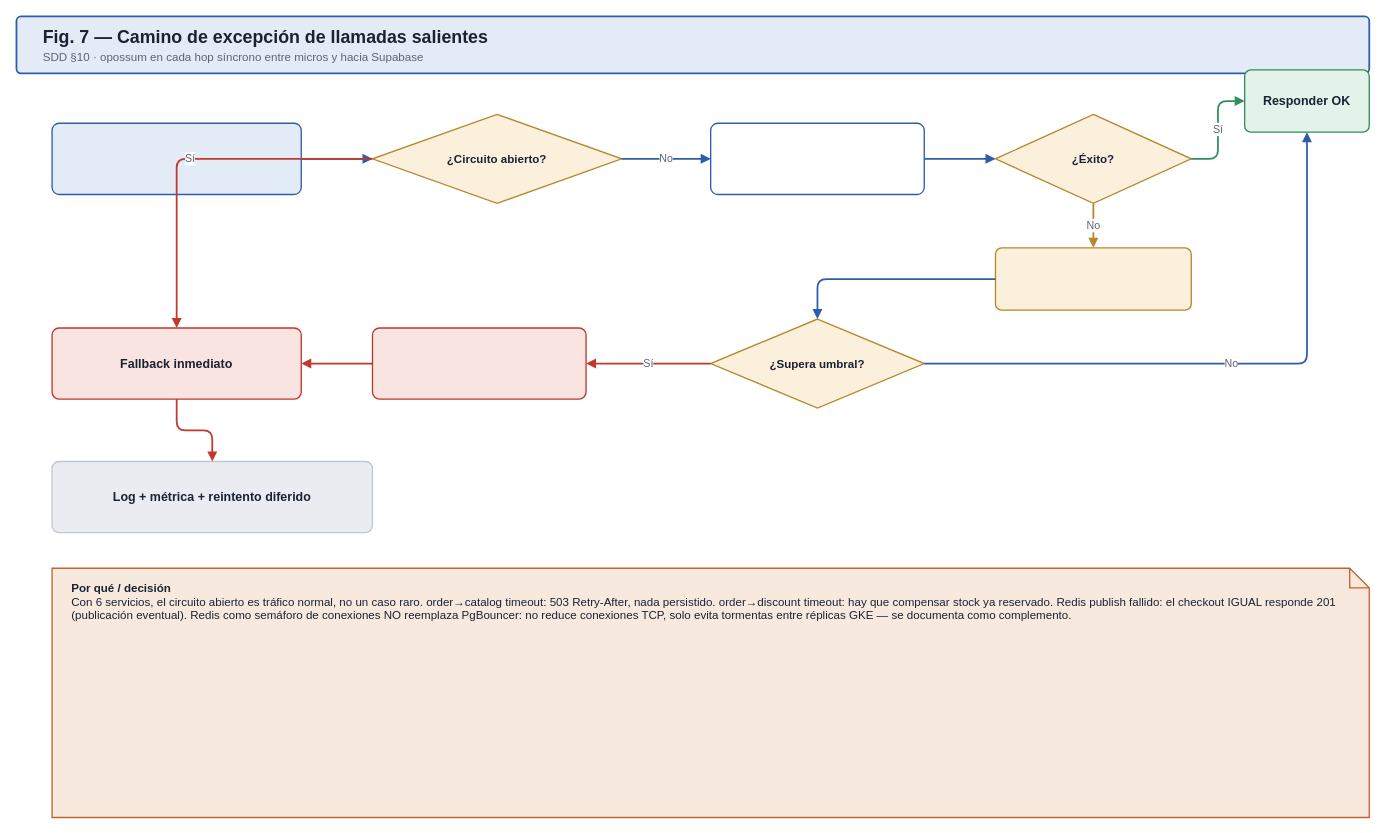
The diagram is 1385 pixels wide and 833 high, and some of its shapes have lost their labels. Here are the shapes that lost their labels. From the top down, the box of each, then its label:
(51, 122, 302, 195): Llamada a servicio externo
(710, 122, 925, 195): Ejecutar llamada
(994, 247, 1192, 310): ++ contador fallos
(371, 327, 586, 399): Abrir circuito
